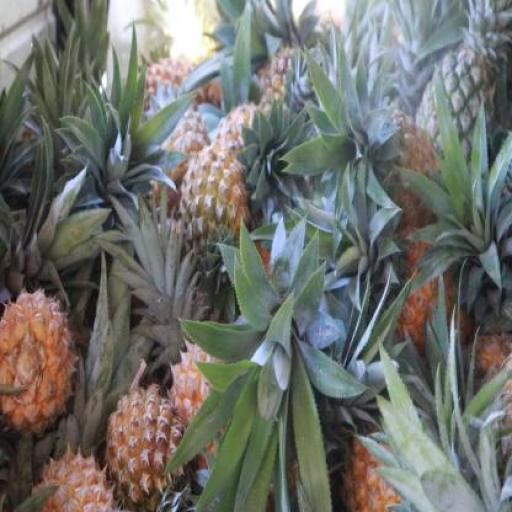------------------------------: (179, 144, 246, 277)
Pineapple - v8 v1: (0, 292, 80, 426), (105, 388, 182, 512)
